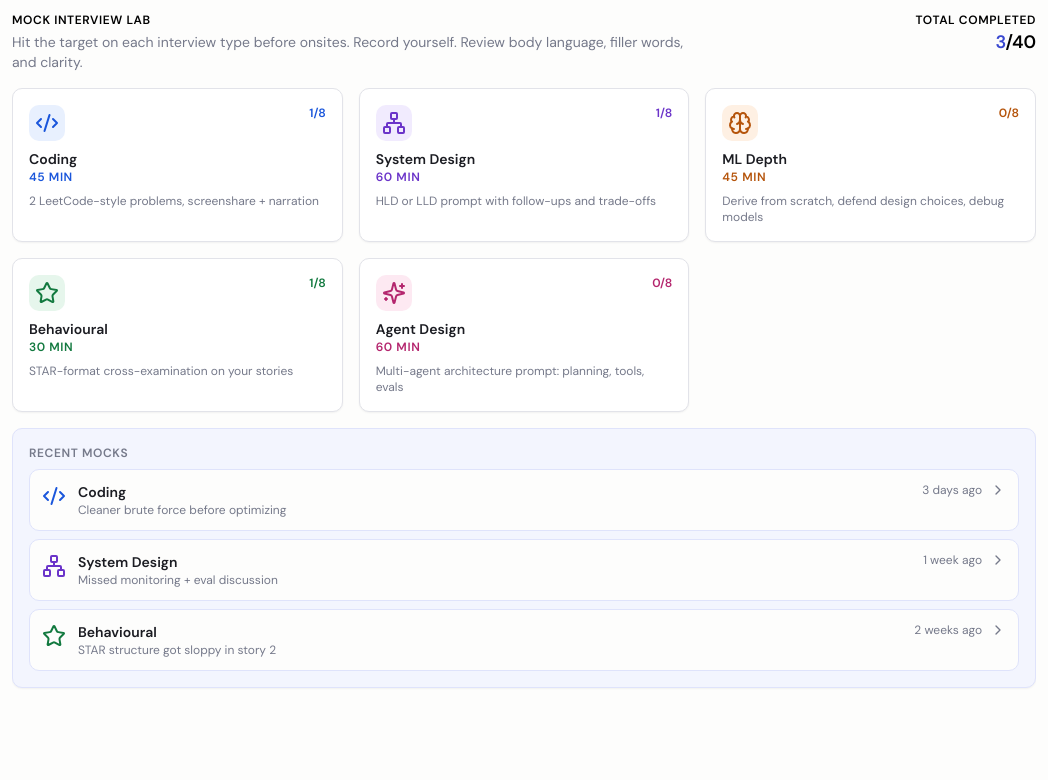
MockInterviewLab ML depth session › starts the live ML depth screen with tailored prompt and checklist
This screenshot has width=1048, height=780.
Step 1. Click the button with aria-label "Start ML Depth" → (740, 123), box [705, 88, 1036, 242]
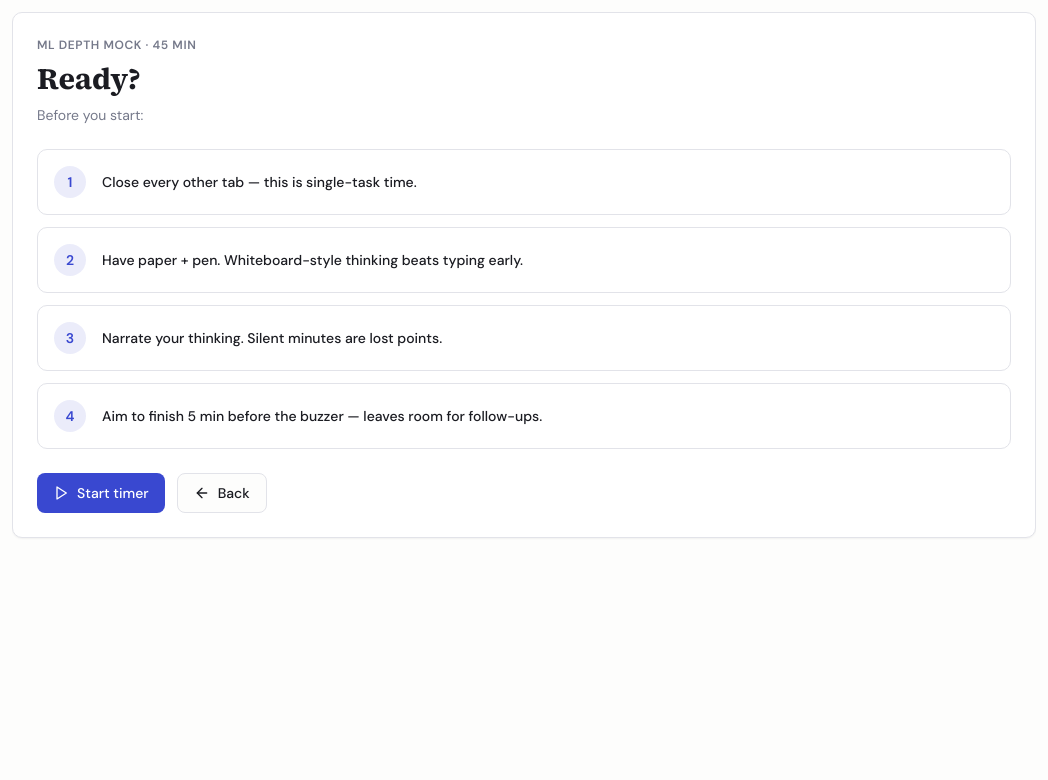
Expected: the text "ML Depth mock · 45 min" is shown, [37, 37, 196, 53]
Step 2. Click the button "Start timer" → (101, 493), box [37, 473, 165, 513]
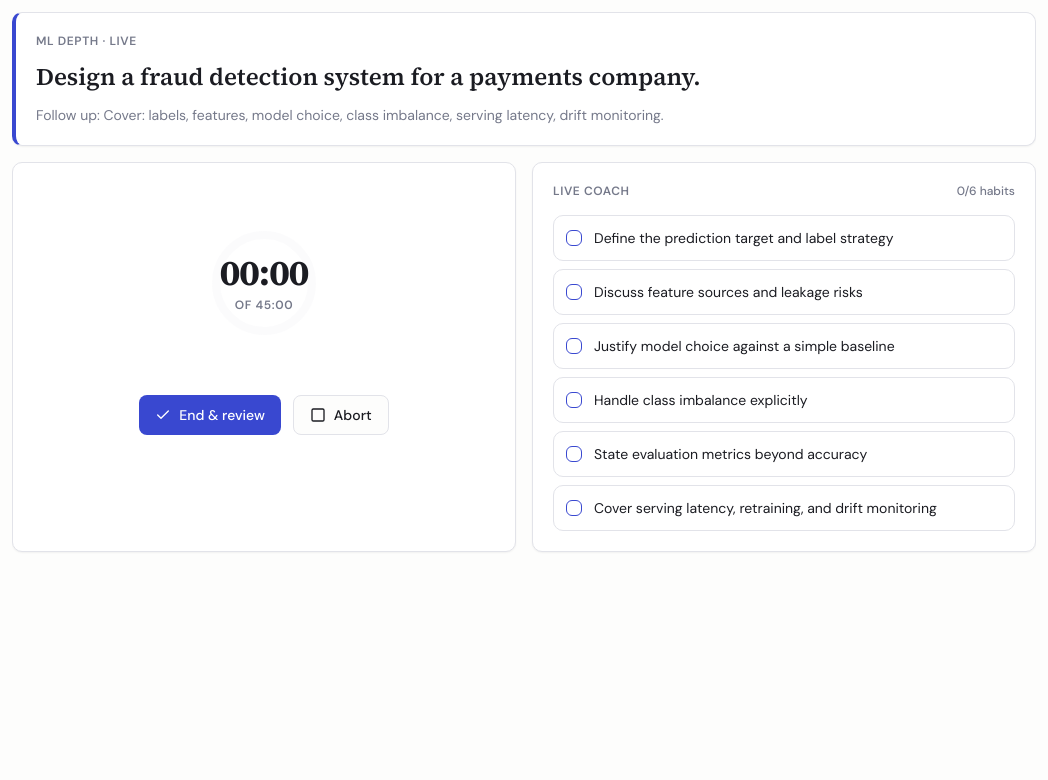
Expected: the text "ML Depth · Live" is shown, [36, 33, 137, 49]
Expected: the heading "Design a fraud detection system for a payments company." is shown, [36, 60, 701, 93]
Expected: the text "class imbalance, serving latency, drift monitoring" is shown, [104, 106, 664, 124]
